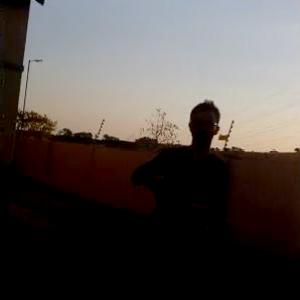follow: (125, 92, 235, 299)
